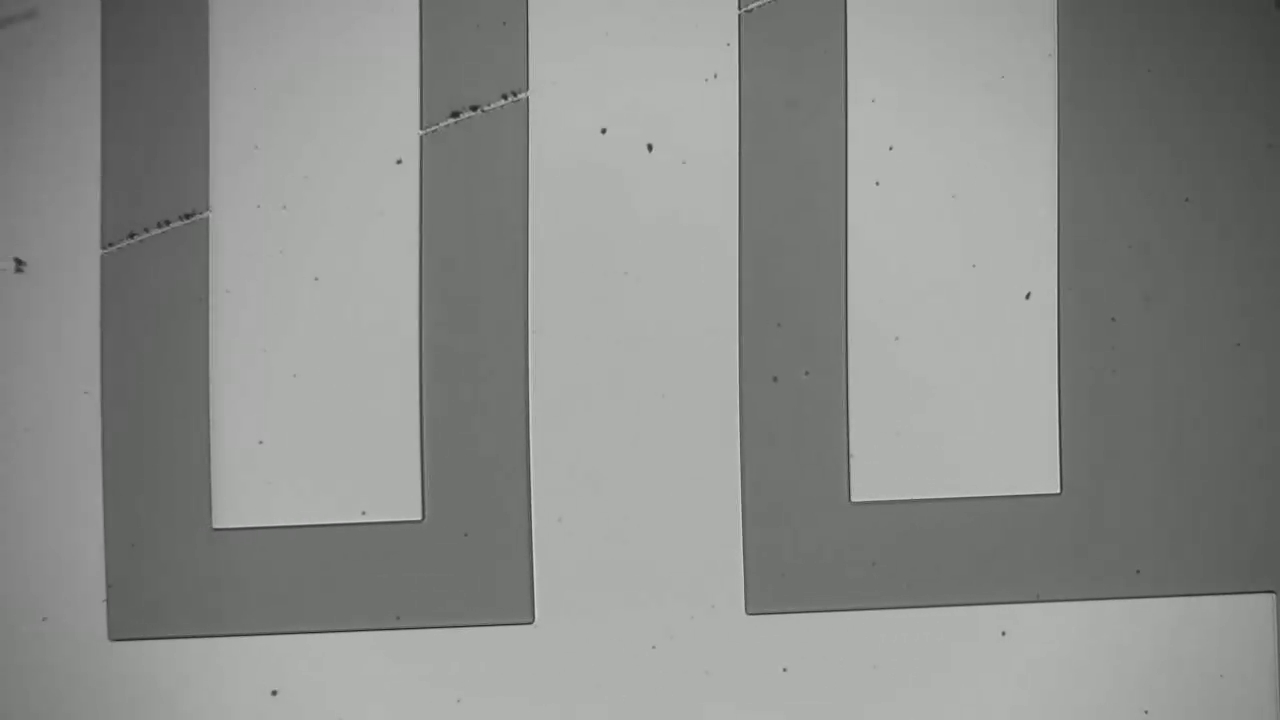scratch: (106, 209, 209, 254), (419, 86, 523, 125)
